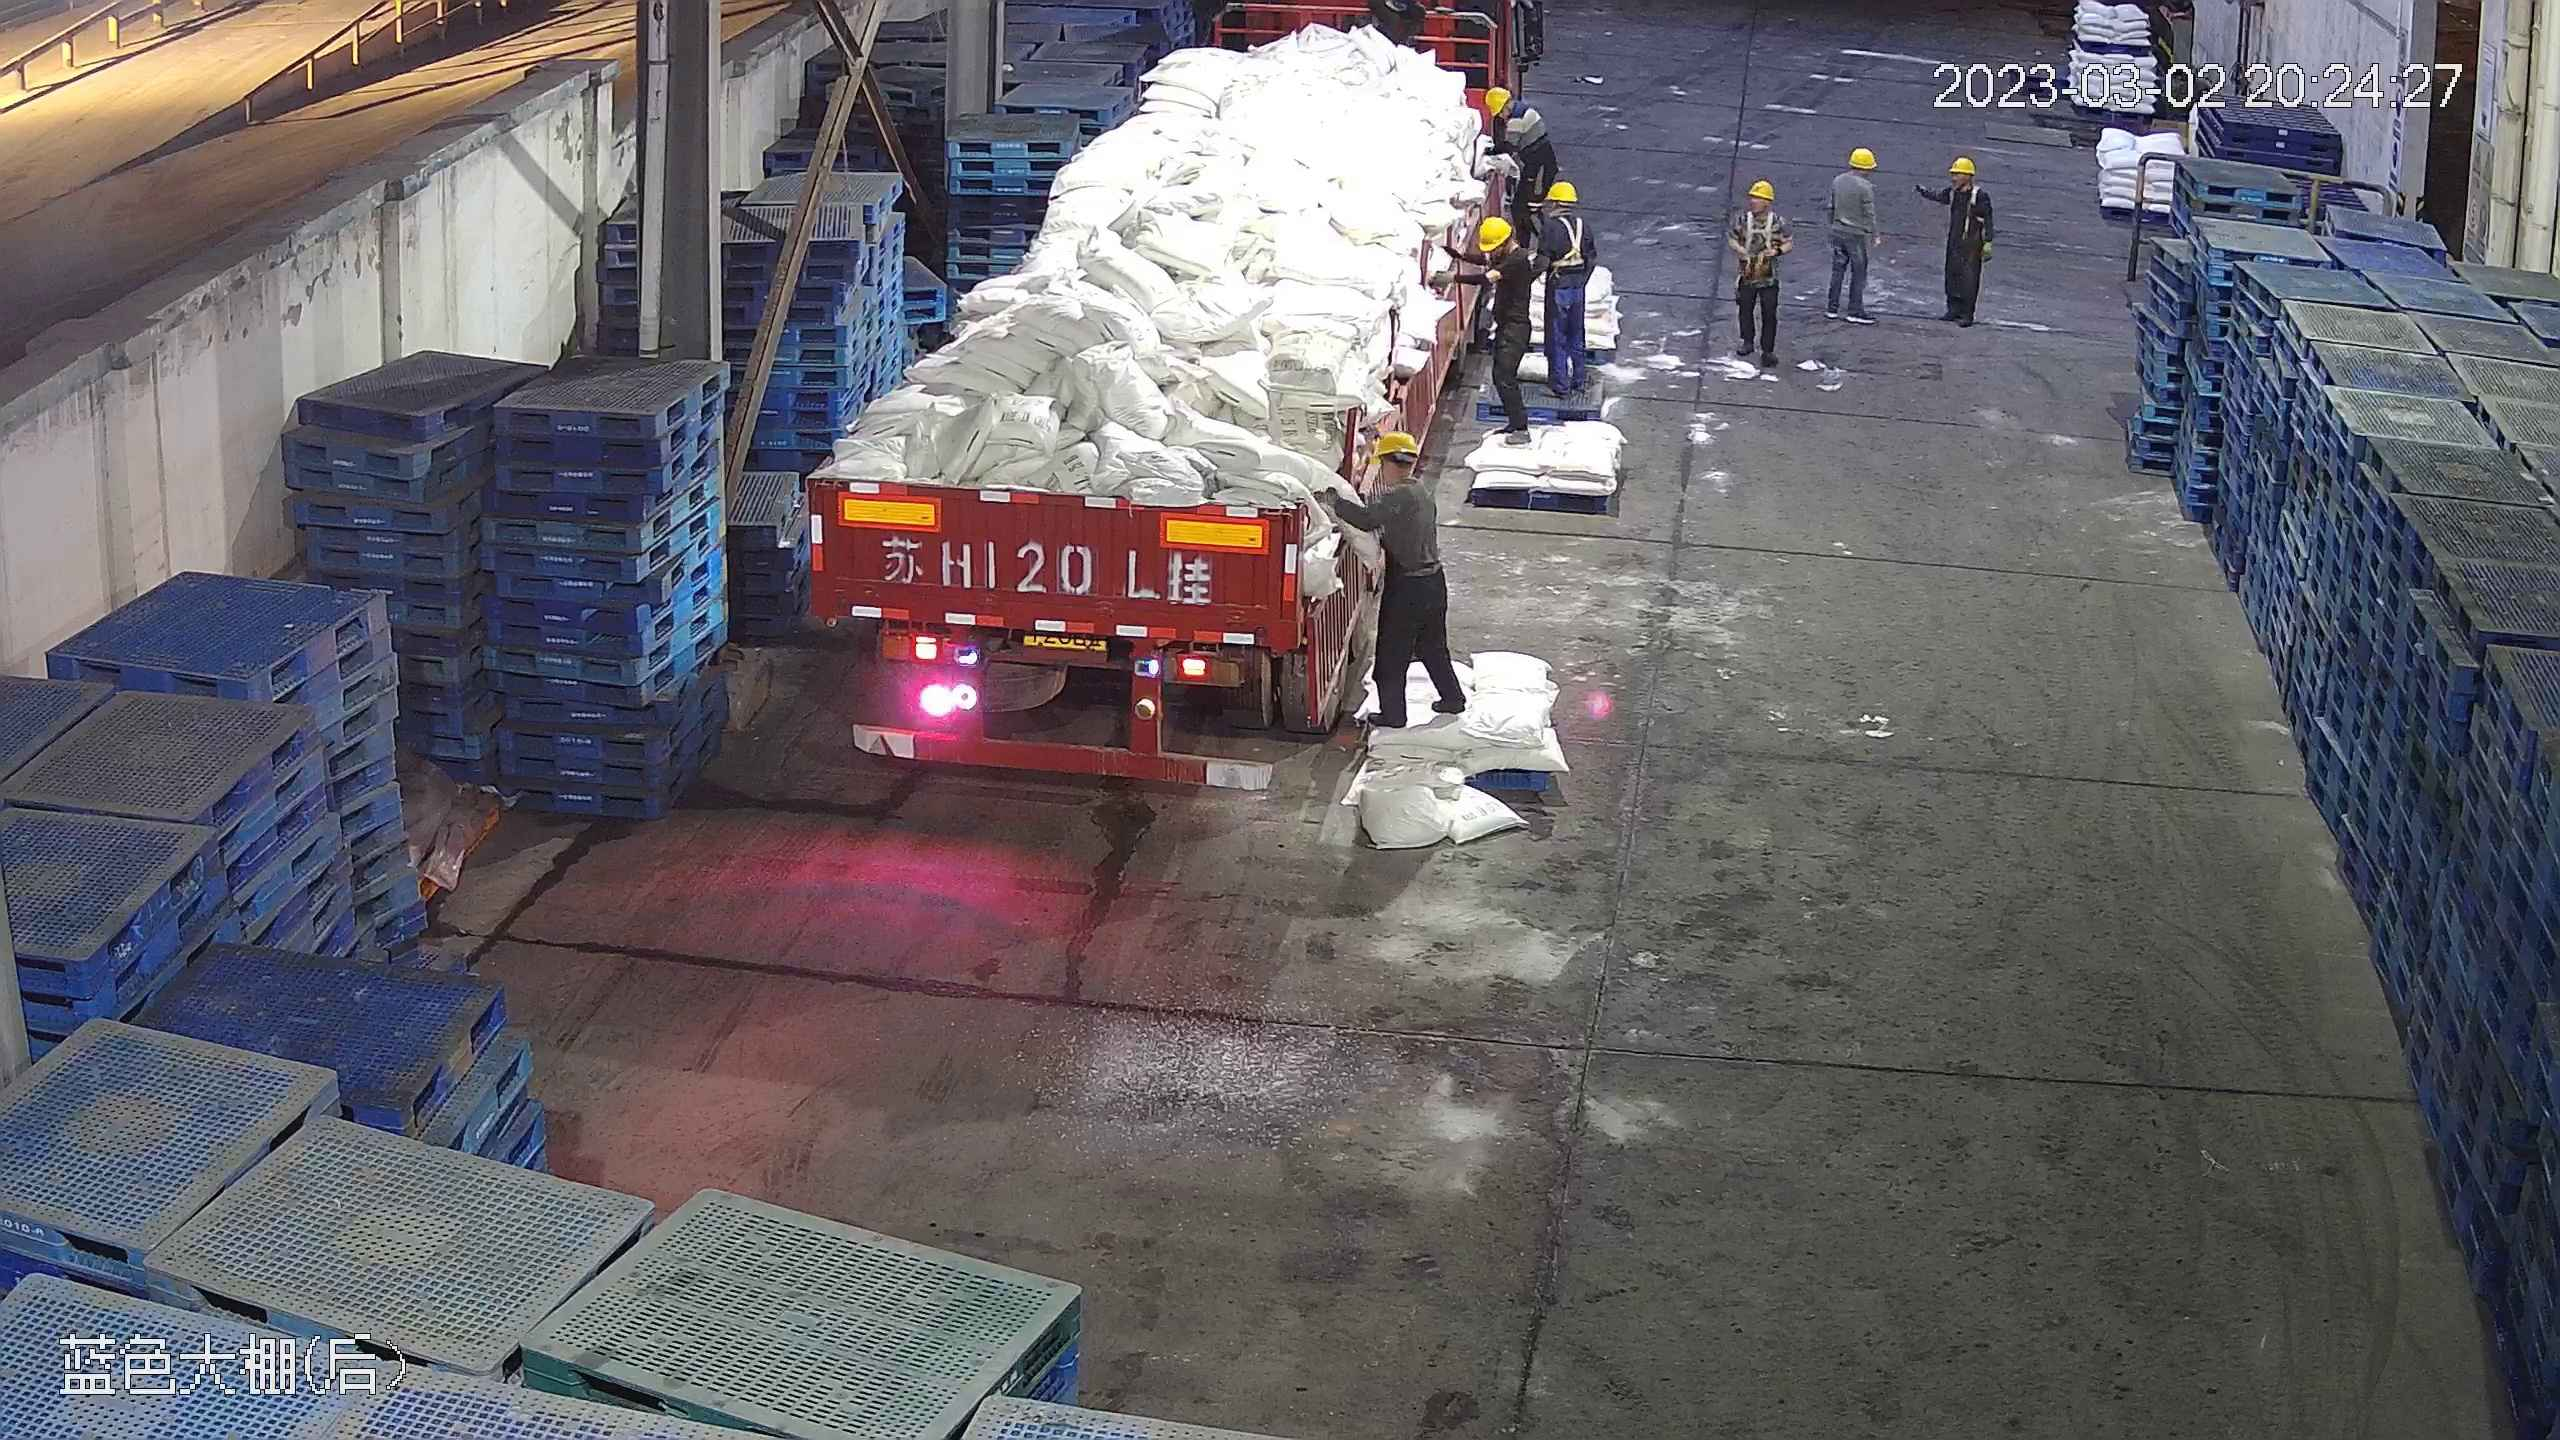belt: (1941, 172, 1976, 237), (1545, 214, 1587, 267), (1739, 205, 1778, 254)
head: (1349, 425, 1442, 534), (1481, 88, 1552, 152), (1536, 179, 1591, 255), (1479, 211, 1532, 285), (1728, 175, 1789, 235), (1828, 145, 1881, 206), (1939, 154, 1994, 213)
helmet: (1370, 425, 1422, 467), (1478, 214, 1514, 249), (1477, 87, 1509, 117), (1544, 178, 1577, 202), (1748, 176, 1778, 200), (1847, 146, 1878, 169), (1949, 154, 1977, 176)
people: (1337, 422, 1473, 732), (1531, 181, 1594, 402), (1726, 173, 1797, 371), (1476, 202, 1533, 437), (1483, 87, 1561, 246), (1933, 154, 1996, 327), (1821, 146, 1881, 324)
truck: (795, 9, 1493, 789)
